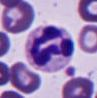N: (24, 24, 75, 73)
